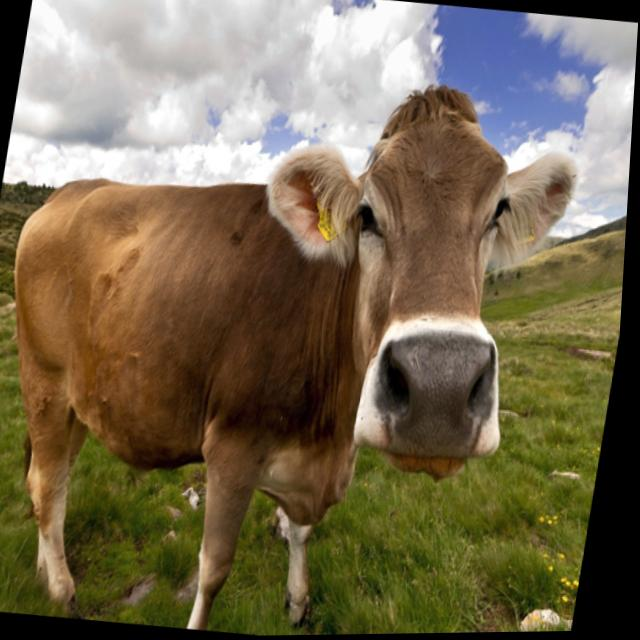cowFace: (224, 62, 602, 501)
